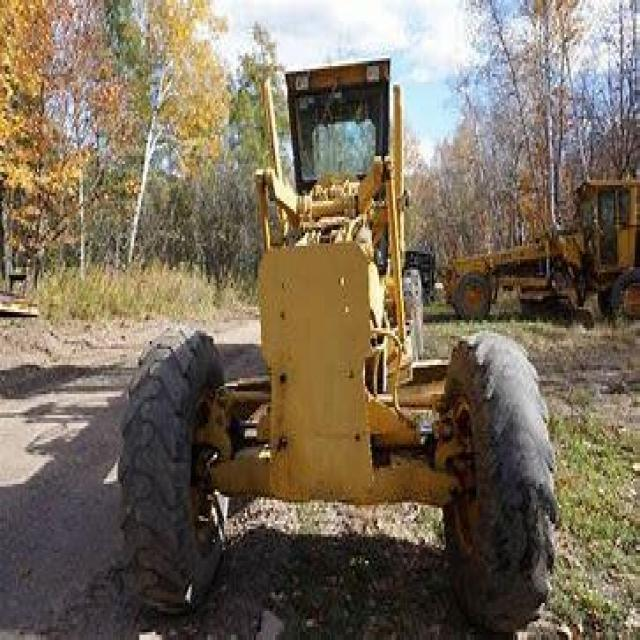Grader: (114, 34, 552, 614)
